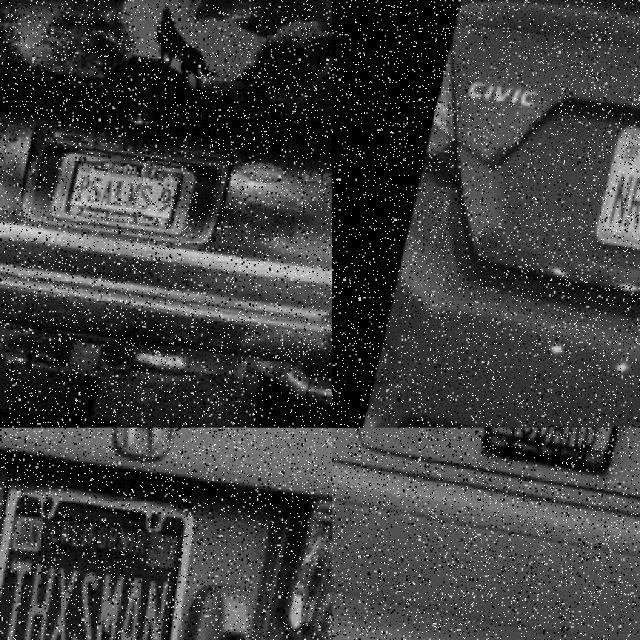LicensePlate: (0, 472, 211, 640), (479, 428, 633, 505), (60, 162, 183, 237), (587, 114, 640, 288)
